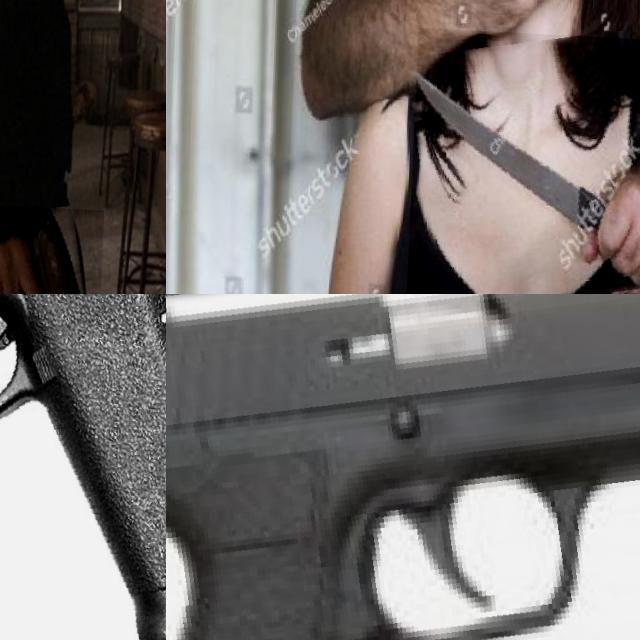-: (412, 24, 640, 294)
gun-knife-thesis - v11 Yolov5 augmented: (166, 294, 640, 640), (0, 294, 166, 640), (0, 202, 106, 294)
